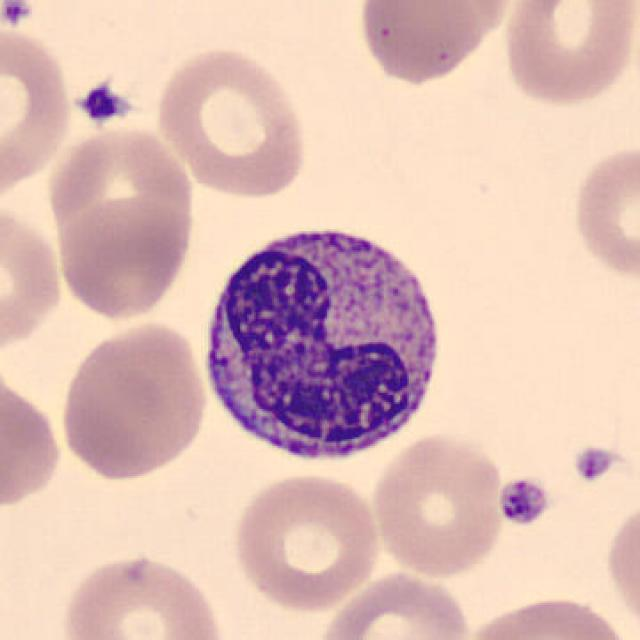Monocyte: (190, 204, 452, 478)
Platelets: (494, 474, 553, 529), (73, 79, 133, 129), (569, 439, 619, 487)
RBC: (55, 317, 212, 485), (151, 42, 311, 203), (229, 469, 384, 615), (370, 428, 508, 582), (52, 194, 196, 323), (57, 552, 227, 640), (500, 2, 638, 109), (313, 568, 475, 638), (355, 2, 489, 86), (567, 139, 638, 286), (464, 592, 636, 640), (602, 497, 640, 640)
